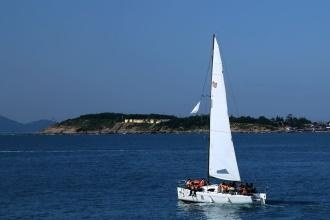fanchuan: (172, 33, 267, 210)
